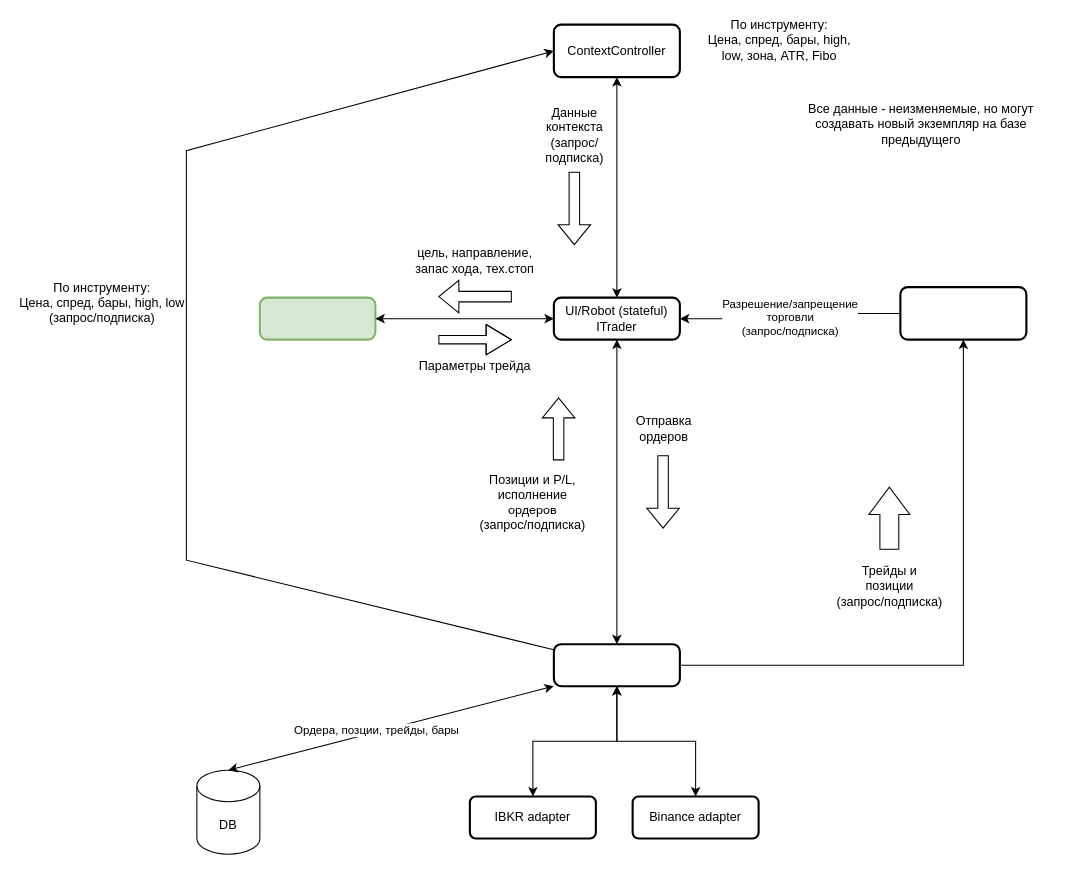
Image size: 1065x873. Some labels were removed from this diagram. The shapes that lost their labels are listed below. From the top down, each one's centre as x and y in pixels, then its label:
(317,318): Calc (stateless)
(963,313): RiskController (stateless)
(616,665): Broker
